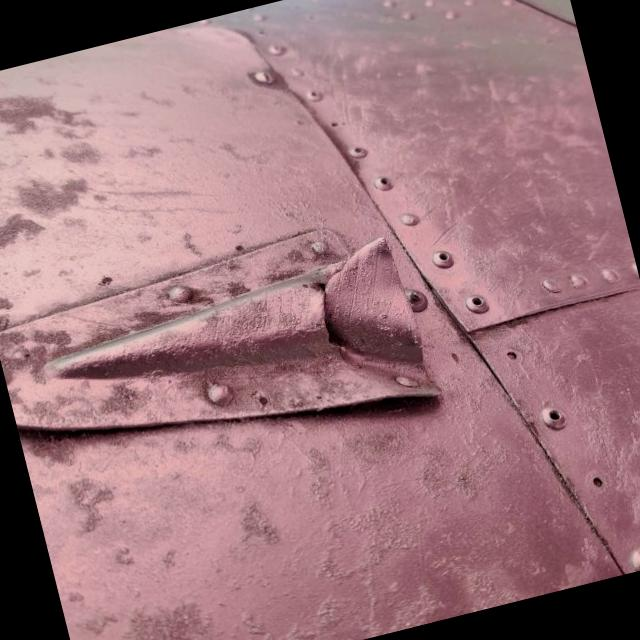crack: (293, 255, 375, 375)
